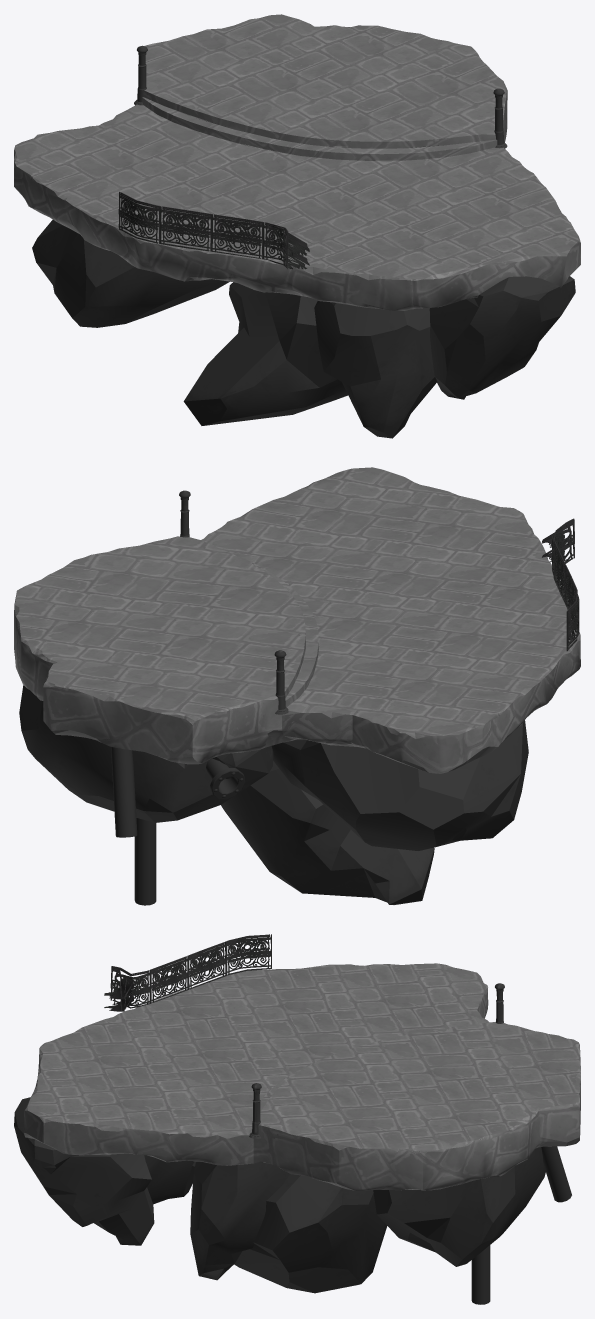
Rendered from stairsIsland.fbx.
The picture shows the model from 3 angles, top to bottom: view 1: azimuth 30°, elevation 25°; view 2: azimuth 150°, elevation 25°; view 3: azimuth 270°, elevation 25°; orthographic projection. The views are drawn at different scales.
Parts seen in each view (by area): view 1: stairsIsland, RockDown6_uv1 (2), RockDown10_uv1 (1), RockDown10_uv1 (3), RockDown6_uv1, segment 1 mesh (×3); view 2: stairsIsland, RockDown6_uv1, RockDown6_uv1 (2), RockDown6_uv1 (1), segment 1 mesh (×3), pipeStraight2 (1), pipeStraight2 (2), pipeStraight, post12 (1); view 3: stairsIsland, RockDown6_uv1 (2), RockDown6_uv1 (1), RockDown10_uv1 (3), RockDown10_uv1 (2), segment 1 mesh (×3), RockDown10_uv1 (1), pipeStraight2 (1), pipeStraight2 (2).
Boxes of the visible parts, x1,y1,x2,y2 form: stairsIsland: (14,14,580,310); RockDown6_uv1 (2): (183,282,347,425); RockDown10_uv1 (1): (314,301,437,438); RockDown10_uv1 (3): (429,276,575,399); RockDown6_uv1: (32,219,229,327); segment 1 mesh (×3): (118,191,309,269); stairsIsland: (14,467,580,773); RockDown6_uv1: (271,720,528,850); RockDown6_uv1 (2): (221,761,434,904); RockDown6_uv1 (1): (19,685,273,822); segment 1 mesh (×3): (542,518,579,651); pipeStraight2 (1): (111,747,137,837); pipeStraight2 (2): (134,818,156,905); pipeStraight: (206,759,245,799); post12 (1): (274,650,288,714); stairsIsland: (24,963,580,1190); RockDown6_uv1 (2): (234,1174,386,1293); RockDown6_uv1 (1): (373,1147,545,1266); RockDown10_uv1 (3): (14,1097,154,1245); RockDown10_uv1 (2): (190,1161,289,1280); segment 1 mesh (×3): (104,934,271,1011); RockDown10_uv1 (1): (144,1155,196,1204); pipeStraight2 (1): (541,1146,571,1202); pipeStraight2 (2): (471,1245,490,1304).
Size of what is drawn, in the model's own units: 34.06 by 21.74 by 40.46.
